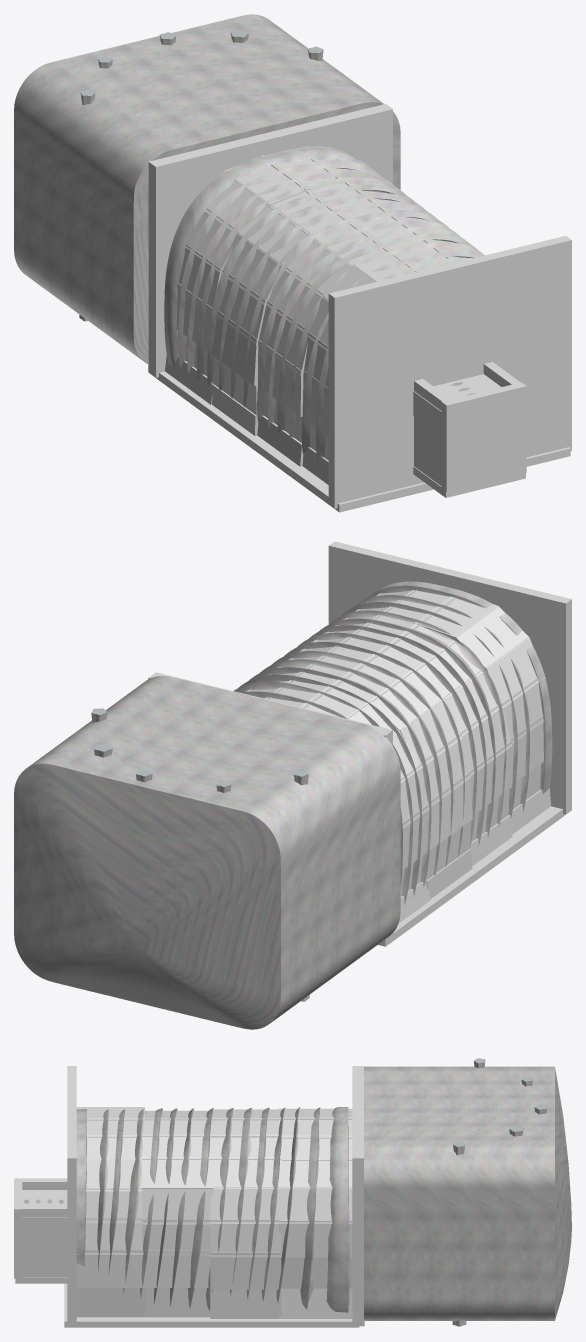
Rendered from shell_interior.glb.
3 renders of one model, top to bottom at view 1: azimuth 30°, elevation 25°; view 2: azimuth 150°, elevation 25°; view 3: azimuth 270°, elevation 25°, orthographic. The views are drawn at different scales.
Parts seen in each view (by area): view 1: shell_interior_walls, endwall_entrance_l_col, endwall_entrance_r_col, endwall_glass_col, vestibule_door_col, endwall_entrance_top_col, floor_col, vestibule_wall_l_col, wall_s2_132_col, vestibule_ceiling_col, wall_s1_132_col, ceiling_s2_096_col (+24 smaller); view 2: shell_interior_walls, endwall_entrance_l_col, endwall_entrance_r_col, floor_col, ceiling_s0_096_col, wall_s2_132_col, ceiling_s0_108_col, ceiling_s2_096_col, ceiling_s2_108_col, wall_s1_132_col, wall_s1_120_col, ceiling_s0_084_col (+21 smaller); view 3: shell_interior_walls, endwall_glass_col, floor_col, wall_s2_012_col, vestibule_wall_r_col, wall_s0_012_col, wall_s2_024_col, wall_s2_000_col, wall_s0_000_col, ceiling_s1_036_col, endwall_entrance_r_col, wall_s1_012_col (+29 smaller).
Boxes of the visible parts, box(x1,y1,x2,y2) form: shell_interior_walls: box(14, 14, 484, 462); endwall_entrance_l_col: box(328, 272, 422, 508); endwall_entrance_r_col: box(480, 236, 571, 457); endwall_glass_col: box(148, 103, 392, 377); vestibule_door_col: box(441, 382, 526, 492); endwall_entrance_top_col: box(415, 256, 485, 386); floor_col: box(155, 371, 570, 512); vestibule_wall_l_col: box(414, 379, 451, 485); wall_s2_132_col: box(211, 310, 258, 385); vestibule_ceiling_col: box(413, 374, 501, 439); wall_s1_132_col: box(258, 339, 303, 416); ceiling_s2_096_col: box(237, 205, 310, 267); shell_interior_walls: box(14, 581, 552, 1029); endwall_entrance_l_col: box(478, 578, 571, 814); endwall_entrance_r_col: box(328, 541, 421, 624); floor_col: box(387, 806, 567, 945); ceiling_s0_096_col: box(454, 606, 529, 669); wall_s2_132_col: box(427, 772, 472, 849); ceiling_s0_108_col: box(485, 637, 545, 708); ceiling_s2_096_col: box(371, 670, 445, 731); ceiling_s2_108_col: box(399, 698, 462, 767); wall_s1_132_col: box(469, 741, 511, 813); wall_s1_120_col: box(461, 702, 511, 775); ceiling_s0_084_col: box(414, 596, 498, 640); shell_interior_walls: box(24, 1058, 571, 1326); endwall_glass_col: box(352, 1066, 364, 1326); floor_col: box(64, 1283, 359, 1327); wall_s2_012_col: box(210, 1252, 281, 1289); vestibule_wall_r_col: box(22, 1205, 67, 1276); wall_s0_012_col: box(76, 1250, 144, 1287); wall_s2_024_col: box(210, 1220, 281, 1257); wall_s2_000_col: box(210, 1289, 281, 1318); wall_s0_000_col: box(76, 1288, 144, 1317); ceiling_s1_036_col: box(142, 1188, 213, 1224); endwall_entrance_r_col: box(67, 1124, 76, 1326); wall_s1_012_col: box(145, 1250, 210, 1287).
Size of the model in its own units: 18 by 14.6 by 40.9.
Materials: 3 (2 with a texture image).
